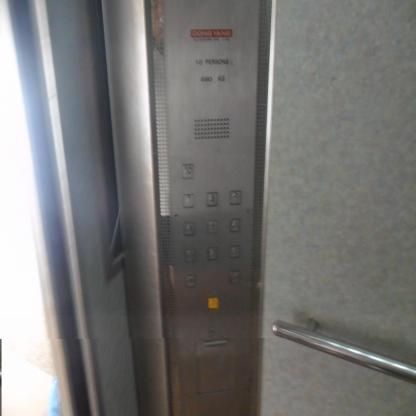1: (184, 248, 196, 263)
10: (181, 162, 194, 180)
2: (206, 246, 218, 261)
3: (228, 244, 240, 259)
4: (183, 221, 195, 237)
5: (205, 219, 218, 236)
7: (182, 192, 194, 209)
8: (205, 192, 218, 207)
9: (228, 190, 241, 205)
blur: (207, 296, 219, 311), (229, 218, 240, 233)
close: (228, 270, 239, 284)
open: (184, 274, 195, 288)
